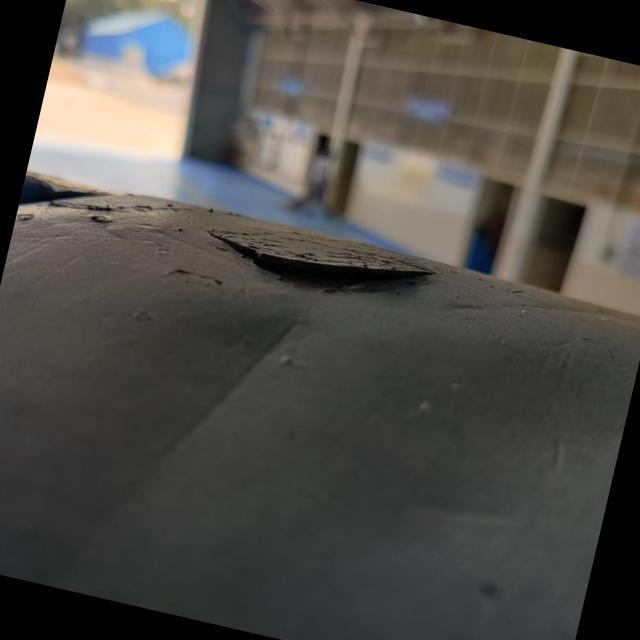Rupture: (188, 190, 456, 336)
